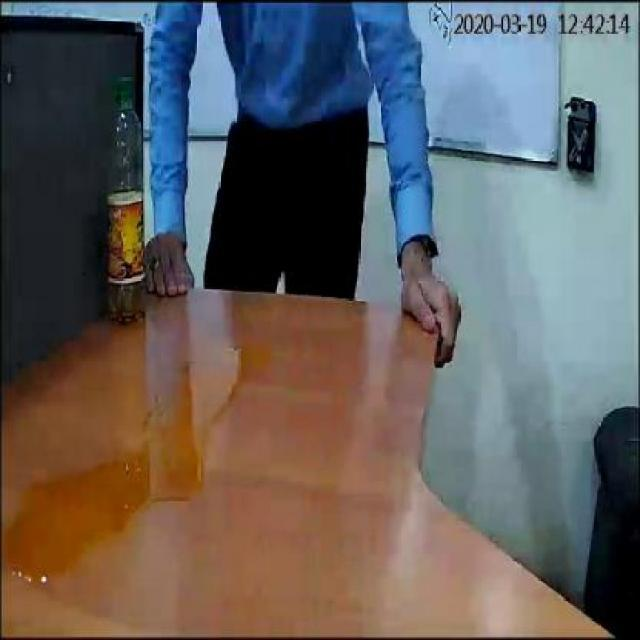spill: (4, 354, 238, 584)
